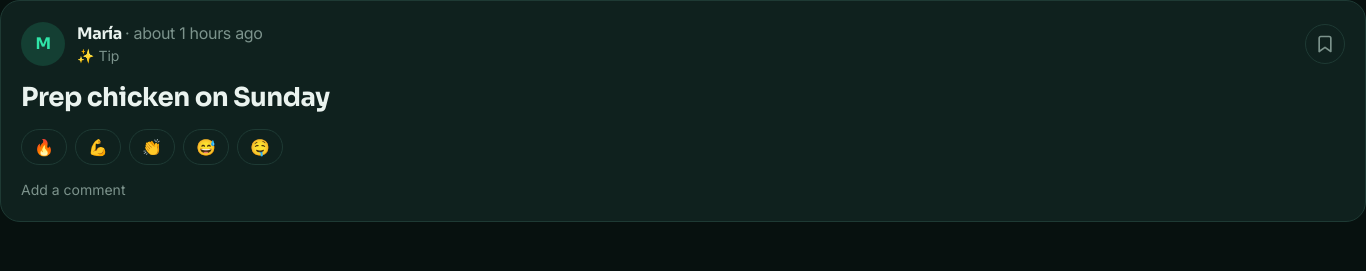
Scenario: saving › clears the message when the next attempt succeeds
What coordinates should you click on to do the following:
click the button named "Save Prep chicken on Sunday"
I would click on:
 (1325, 44)
Its box is [1305, 24, 1345, 64].
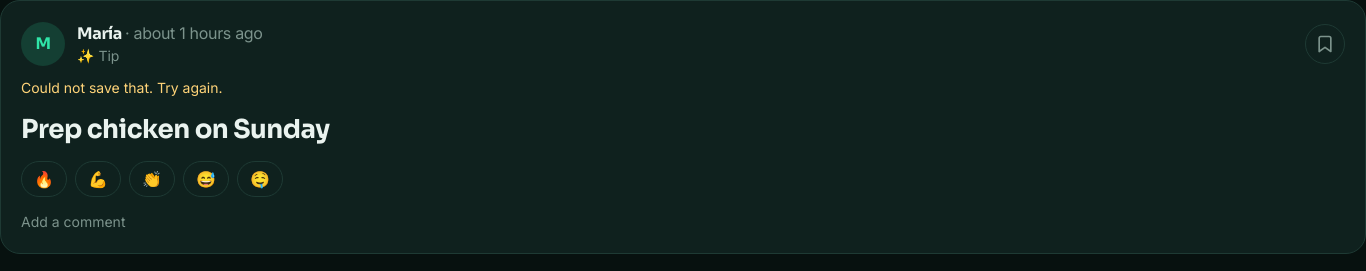
Expected: the message "Could not save that. Try again." is shown, [21, 79, 222, 96]
What coordinates should you click on to do the following:
click the button named "Save Prep chicken on Sunday"
I would click on:
 (1325, 44)
Its box is [1305, 24, 1345, 64].
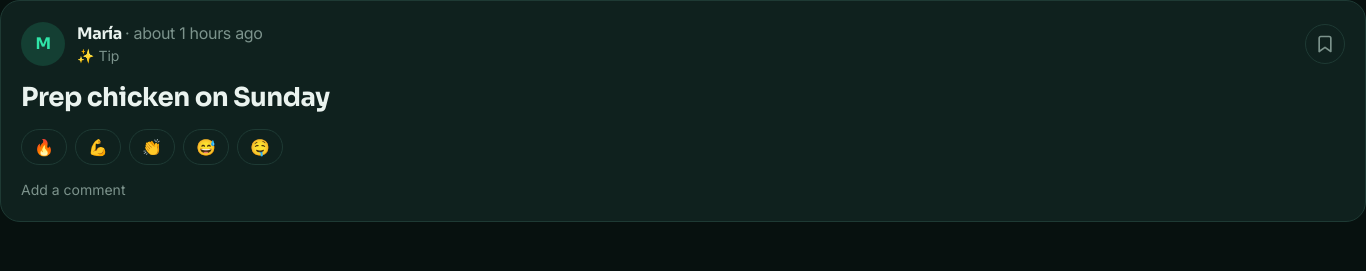
Expected: the message "Could not save that. Try again." is gone
